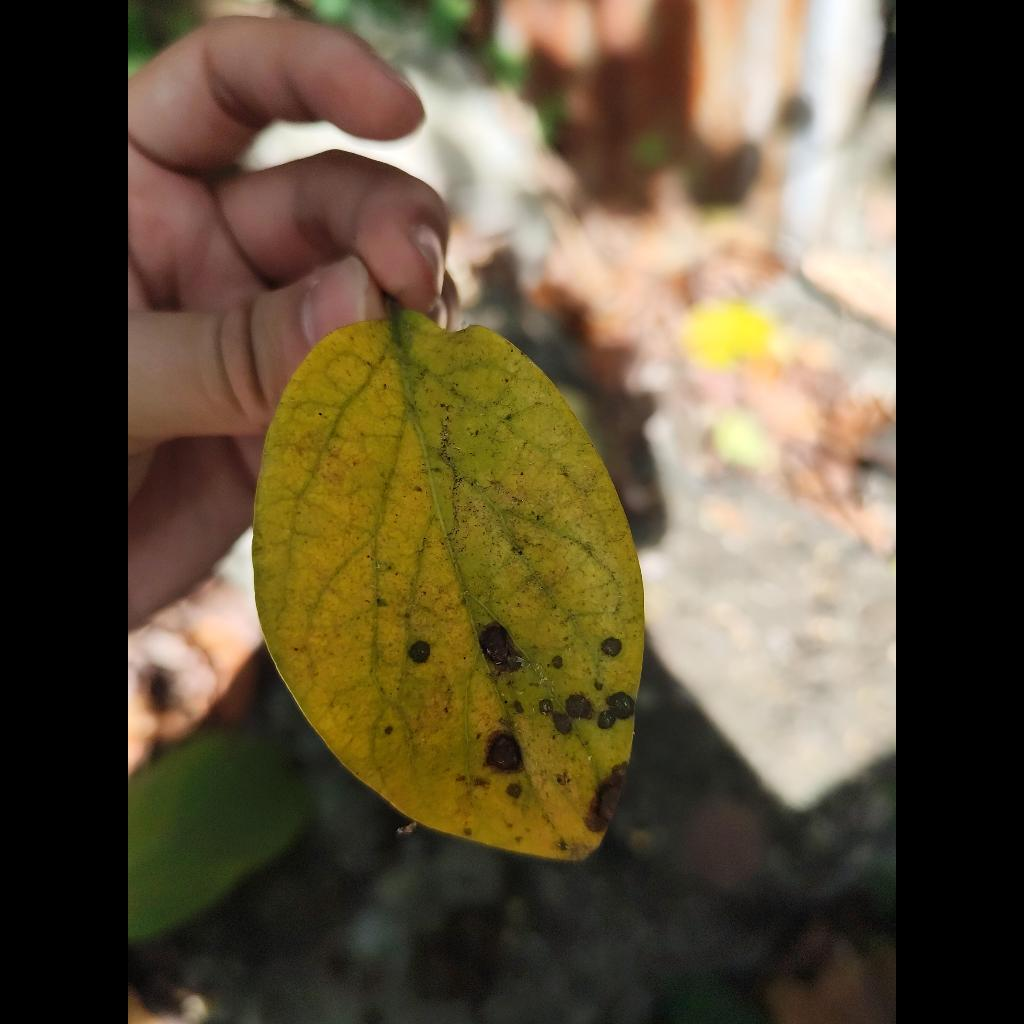nutrient_deficiency: (253, 312, 644, 860)
